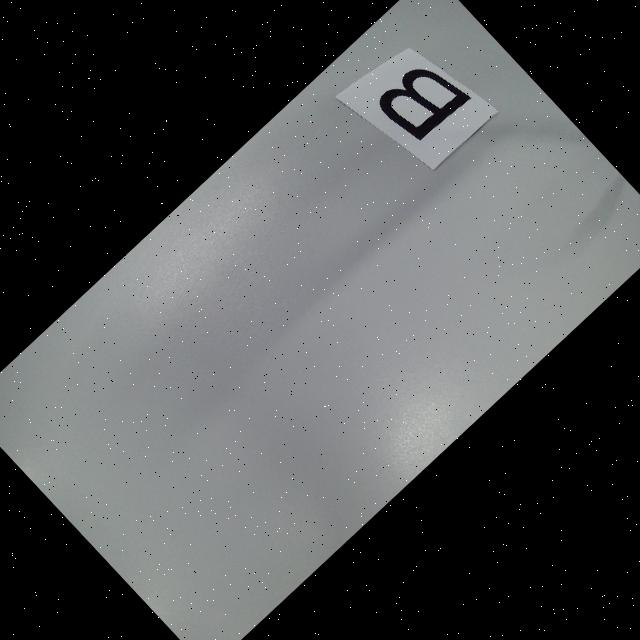FAKE: (374, 51, 472, 148)
